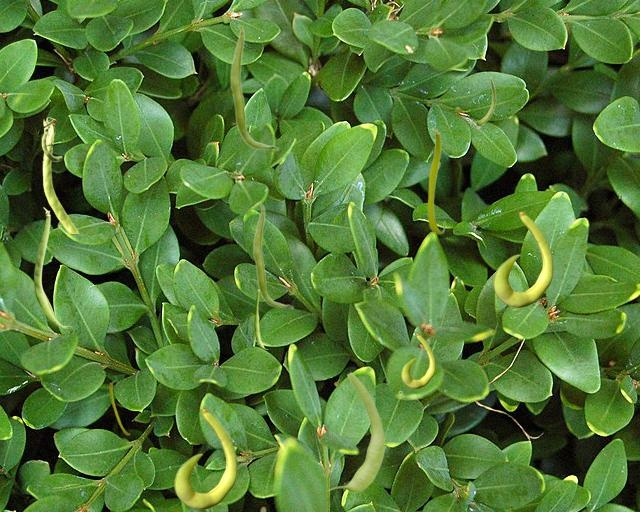french_bean: (327, 371, 384, 491), (174, 408, 236, 508), (229, 24, 278, 150), (493, 211, 552, 306), (34, 207, 71, 327), (252, 203, 293, 308), (41, 117, 78, 232), (427, 128, 444, 233), (401, 333, 434, 387), (109, 380, 129, 434), (475, 76, 495, 125), (254, 289, 267, 348)
